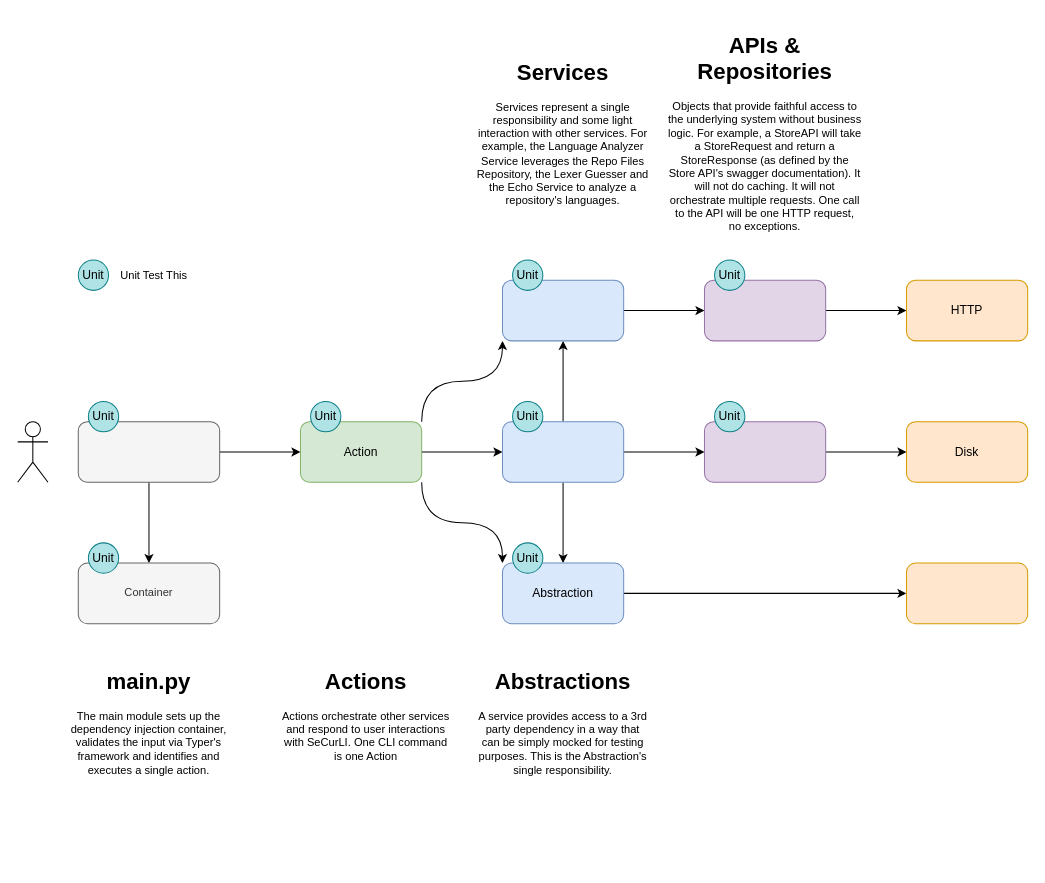
This 1045x883 diagram has some shape labels left out. The box of each missing label's shape, as (x1, y1, x2, y2) in pixels:
3rd Party Dependency: (905, 562, 1028, 624)
API: (703, 279, 826, 341)
Main $ securely [action]: (77, 421, 220, 482)
Other Service: (501, 279, 624, 341)
Repository: (703, 421, 826, 482)
Service: (501, 421, 624, 482)
User: (17, 421, 48, 482)
